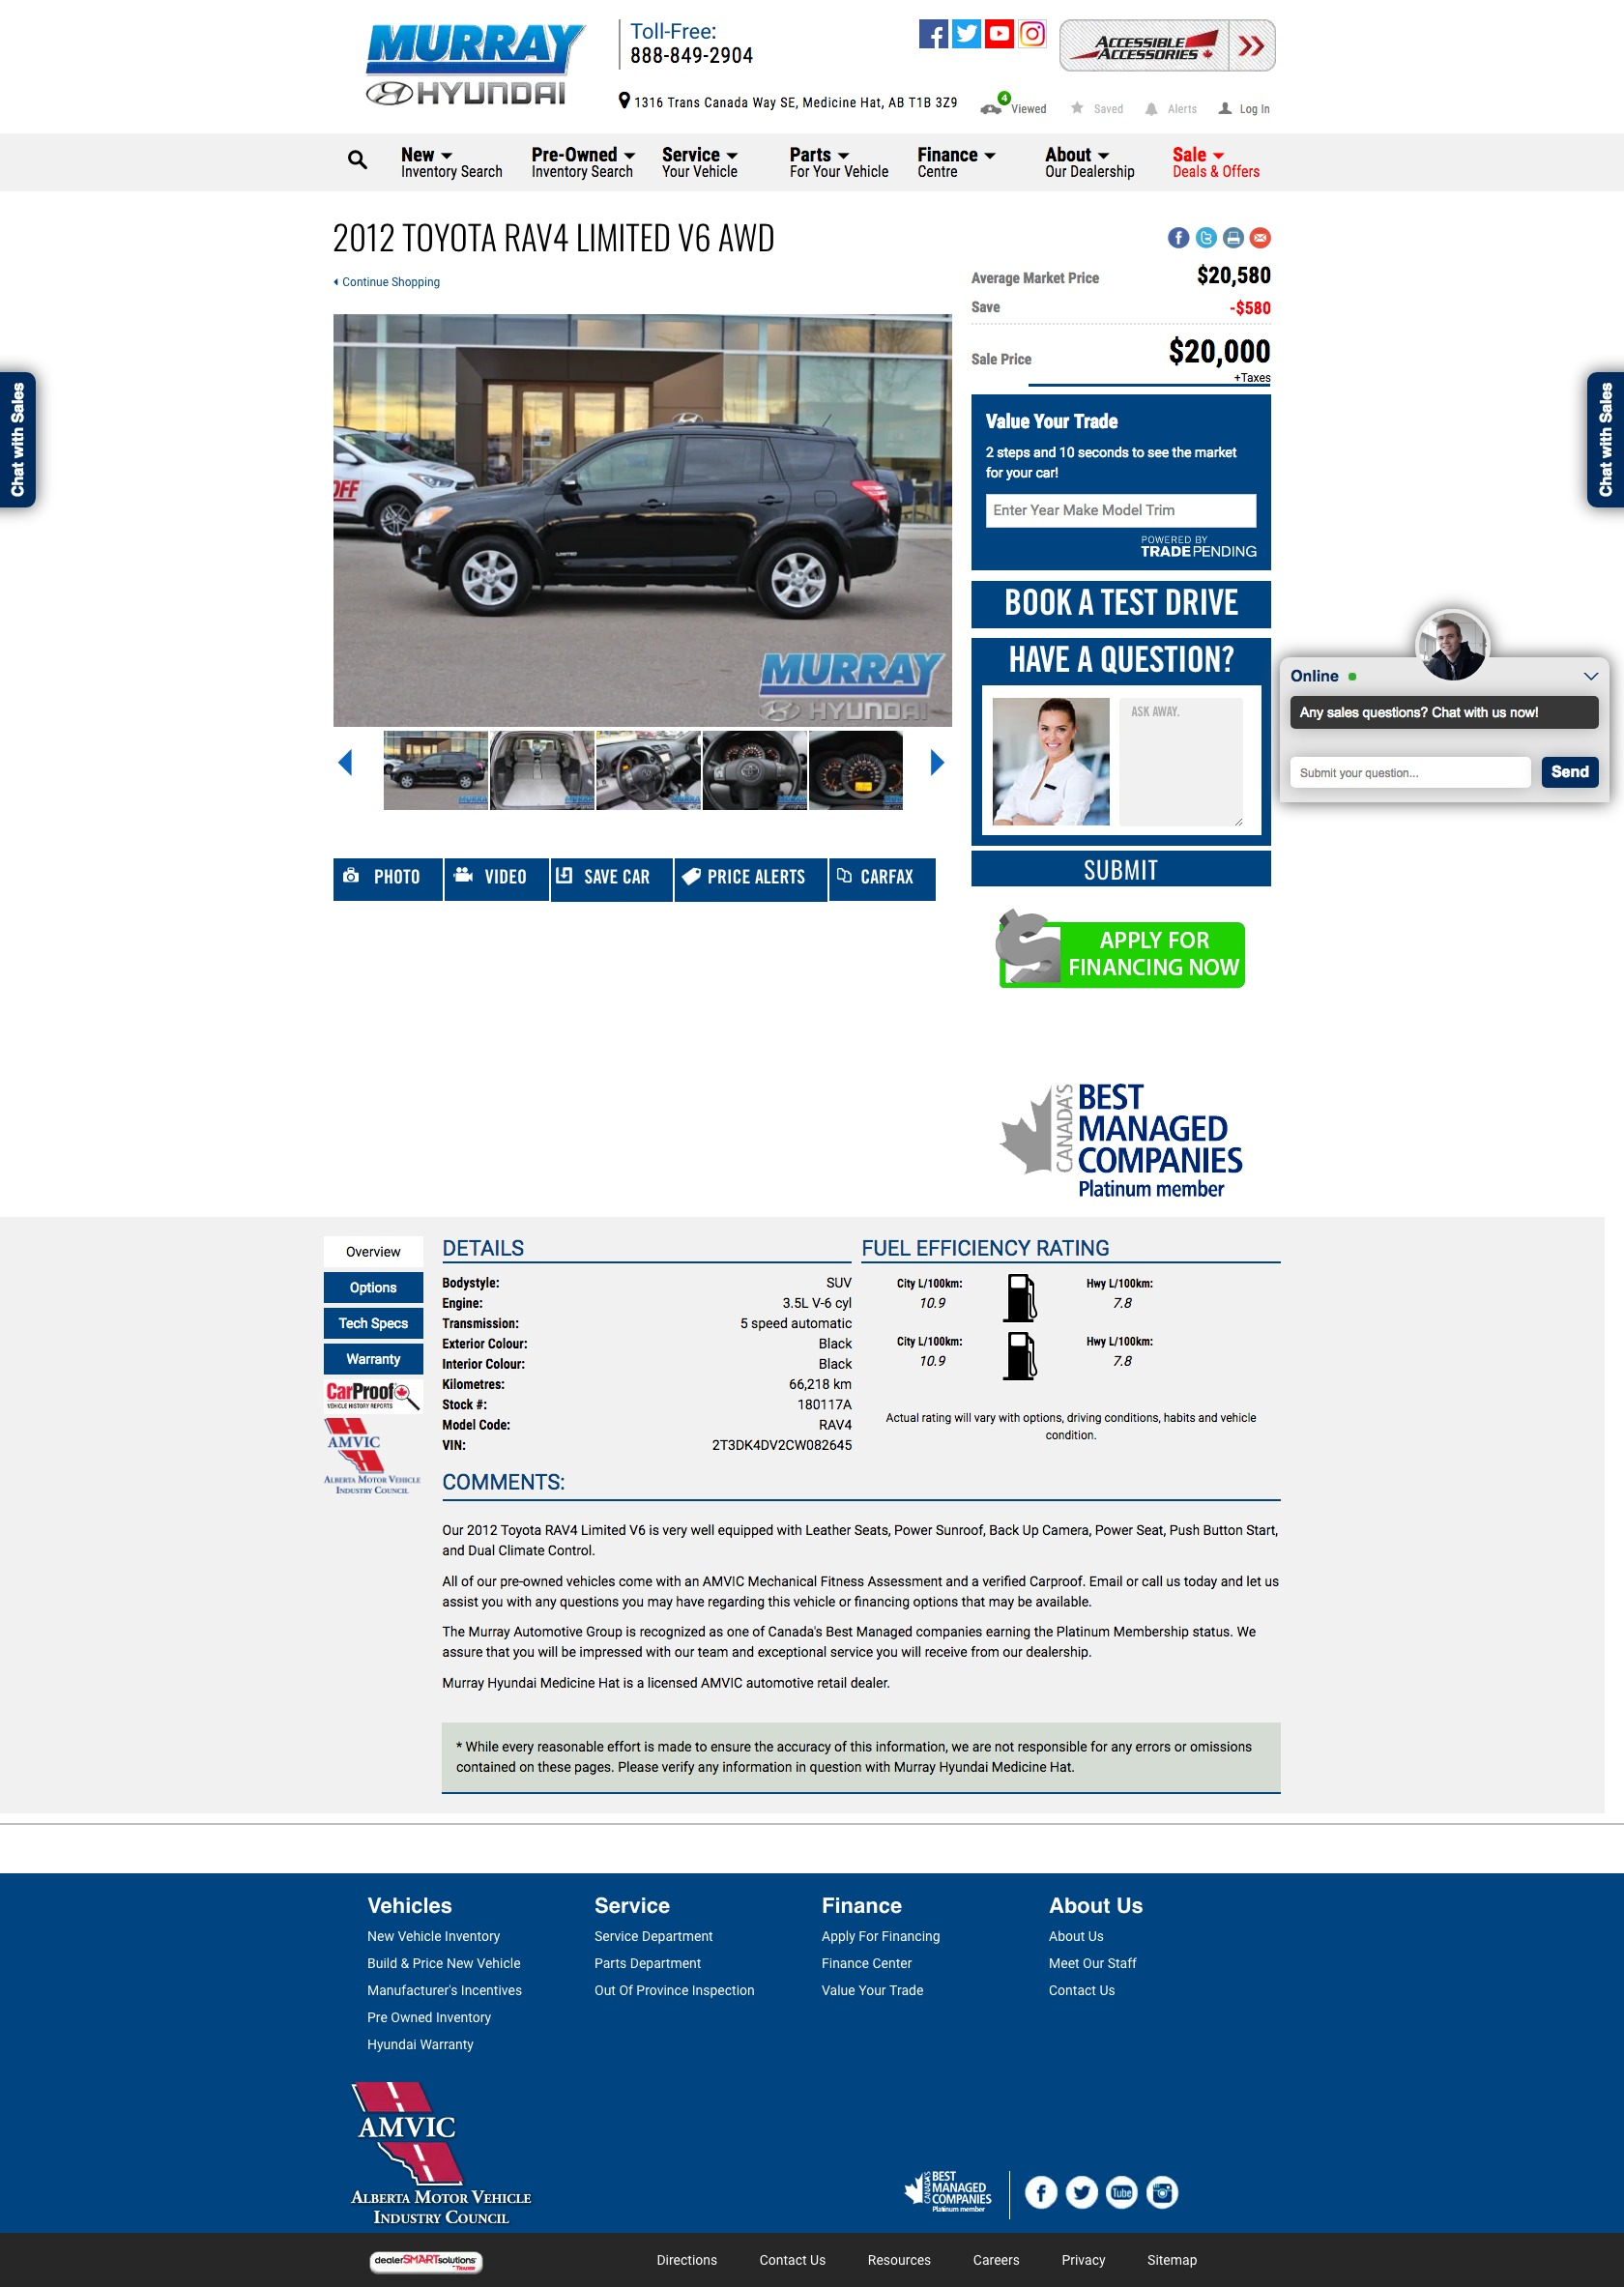car: (930, 748, 946, 778)
